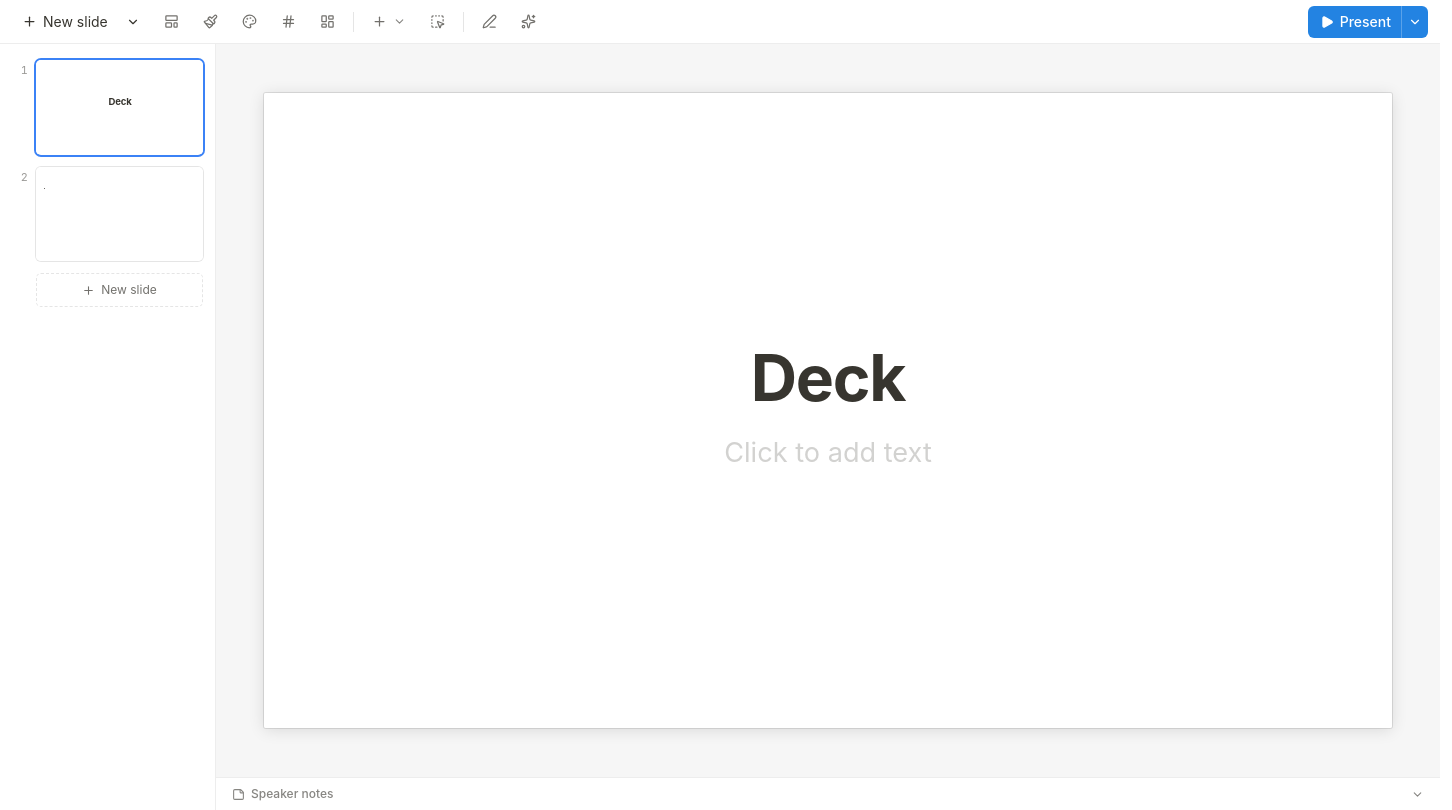
Scenario: PresentationPage › adds, duplicates, deletes and saves slides
The width and height of the screenshot is (1452, 810).
Later steps or results of the test are not shown.
Check: the list named "Slides" is shown, box [0,44,216,809]
Click the 1st button "New slide": x=64, y=22 [12,6,116,38]
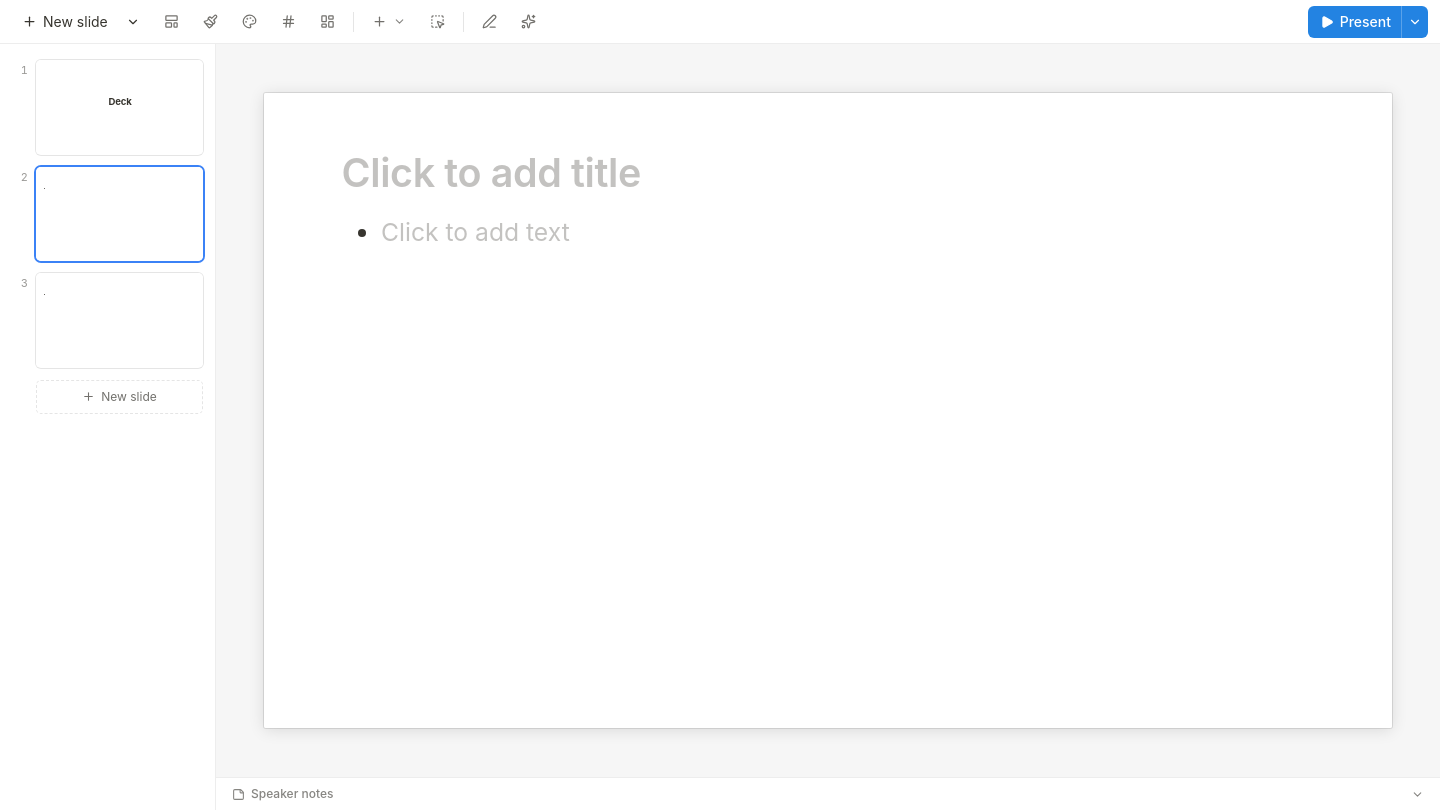
Check: the number of options is 3, box [12,60,203,154]; [12,166,203,261]; [12,273,203,368]
